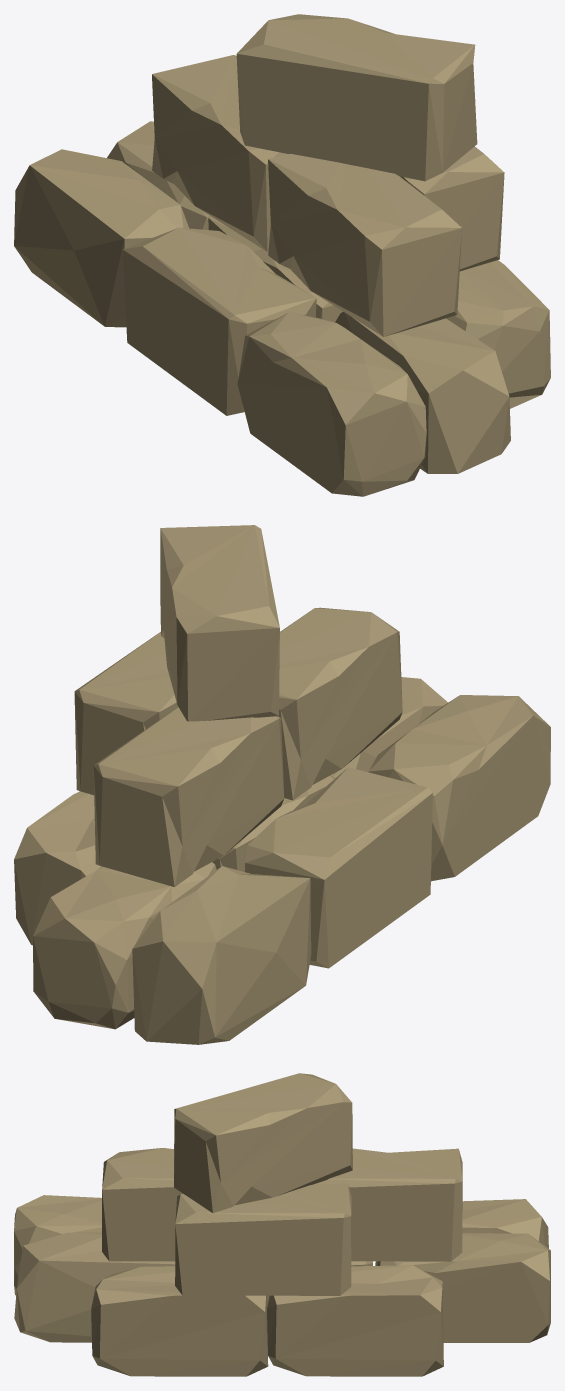
File: SM_brick_pile_01.fbx
The picture shows the model from 3 angles, top to bottom: view 1: azimuth 30°, elevation 25°; view 2: azimuth 150°, elevation 25°; view 3: azimuth 270°, elevation 25°; orthographic projection. The views are drawn at different scales.
Parts seen in each view (by area): view 1: brick_pile_01; view 2: brick_pile_01; view 3: brick_pile_01.
Boxes of the visible parts, box(x1,y1,x2,y2) form: brick_pile_01: box(14, 14, 550, 496); brick_pile_01: box(14, 525, 550, 1044); brick_pile_01: box(14, 1073, 550, 1376).
Size of the model in its own units: 86.2 by 96.69 by 193.
